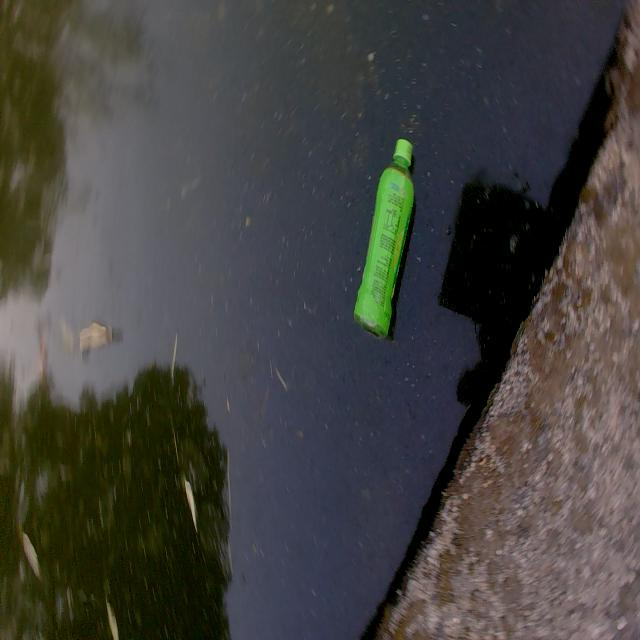bottle: (333, 103, 441, 371)
